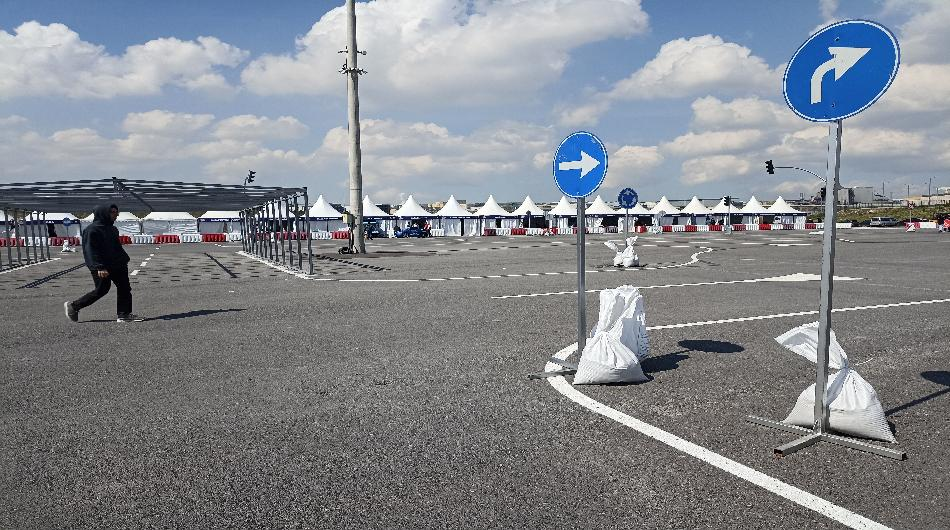saga_mecburi_1: (552, 132, 608, 199)
saga_mecburi_2: (783, 18, 903, 120)
